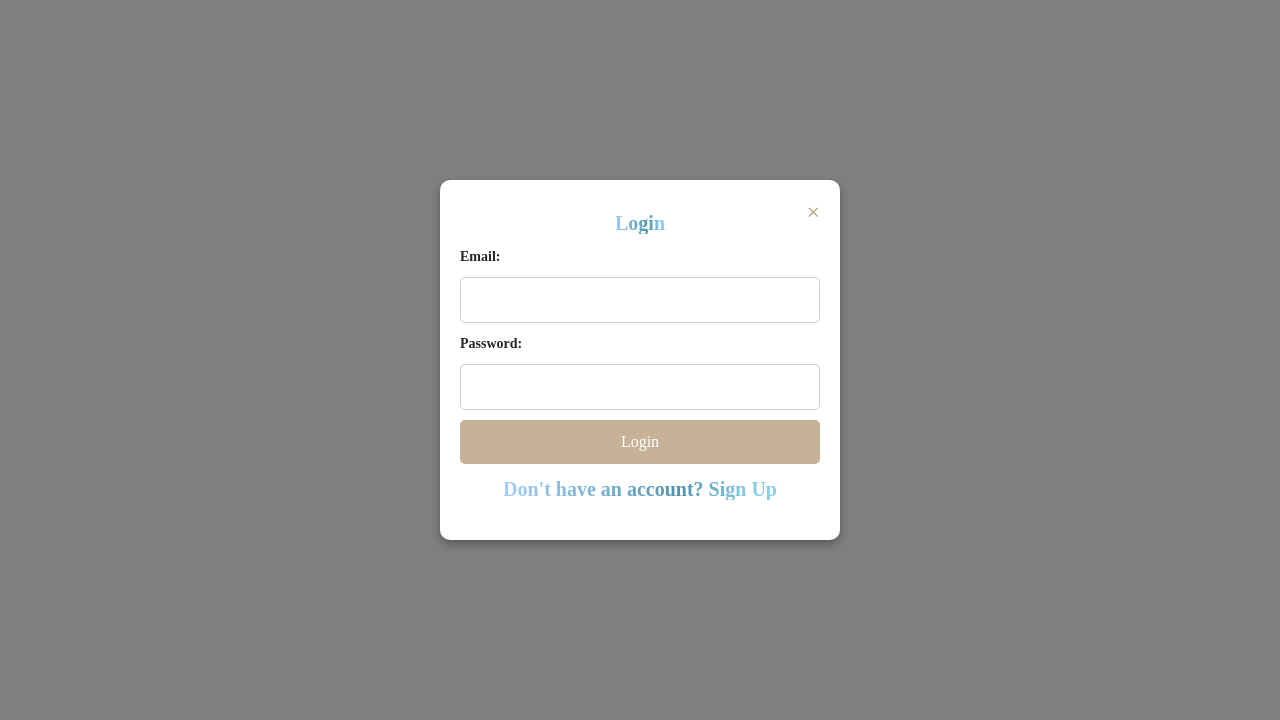
Test: Login Component › switches to signup form when clicking sign up link
Click the text "Don't have an account? Sign Up": (640, 489) [503,478,777,500]
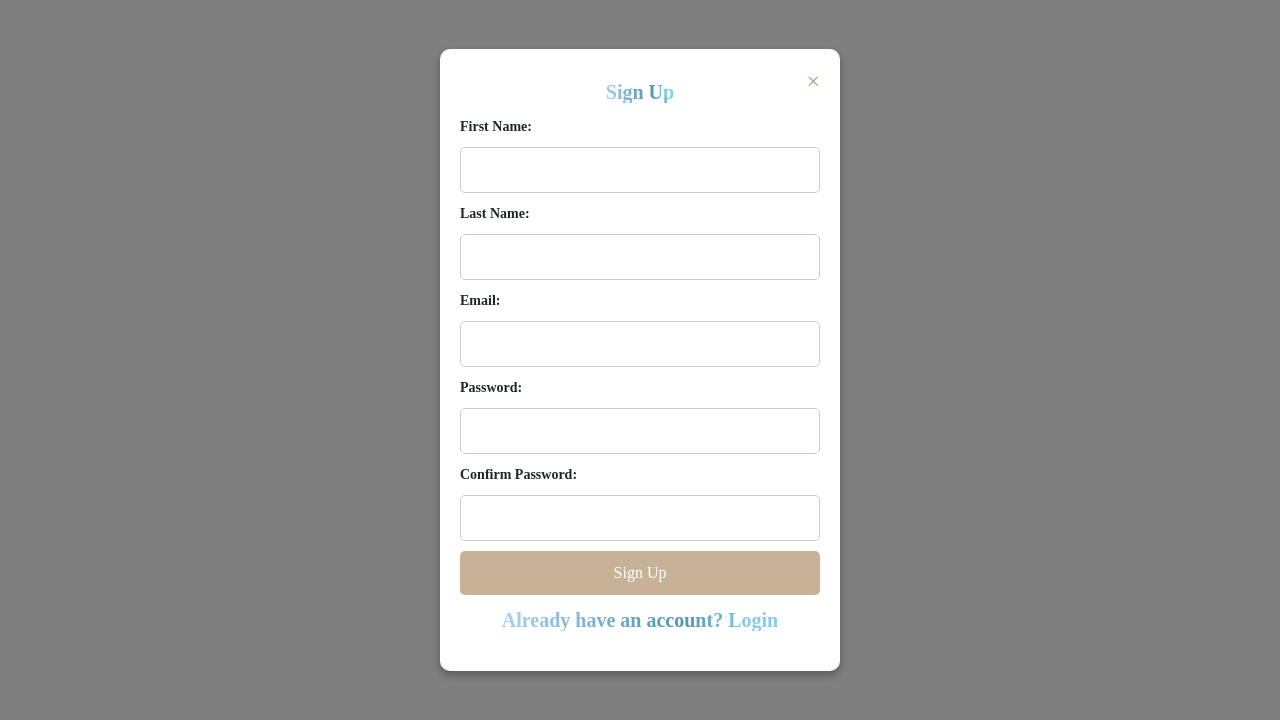
Now the heading "Sign Up" is shown, box [606,81,674,103]
Now the button "Sign Up" is shown, box [460,551,820,595]
